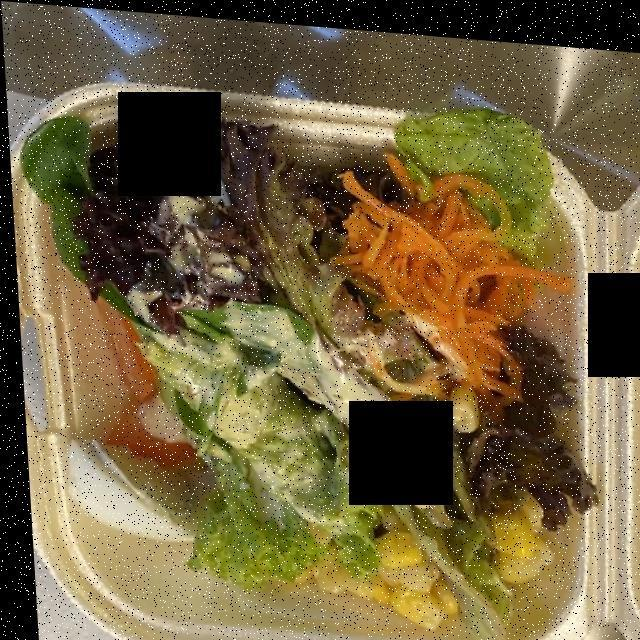carrot: (325, 166, 547, 386)
egg: (67, 444, 195, 545)
salad: (25, 121, 585, 640), (203, 301, 406, 499)
sweet-corn-canned: (279, 489, 541, 615)
tomato: (87, 284, 206, 460)
